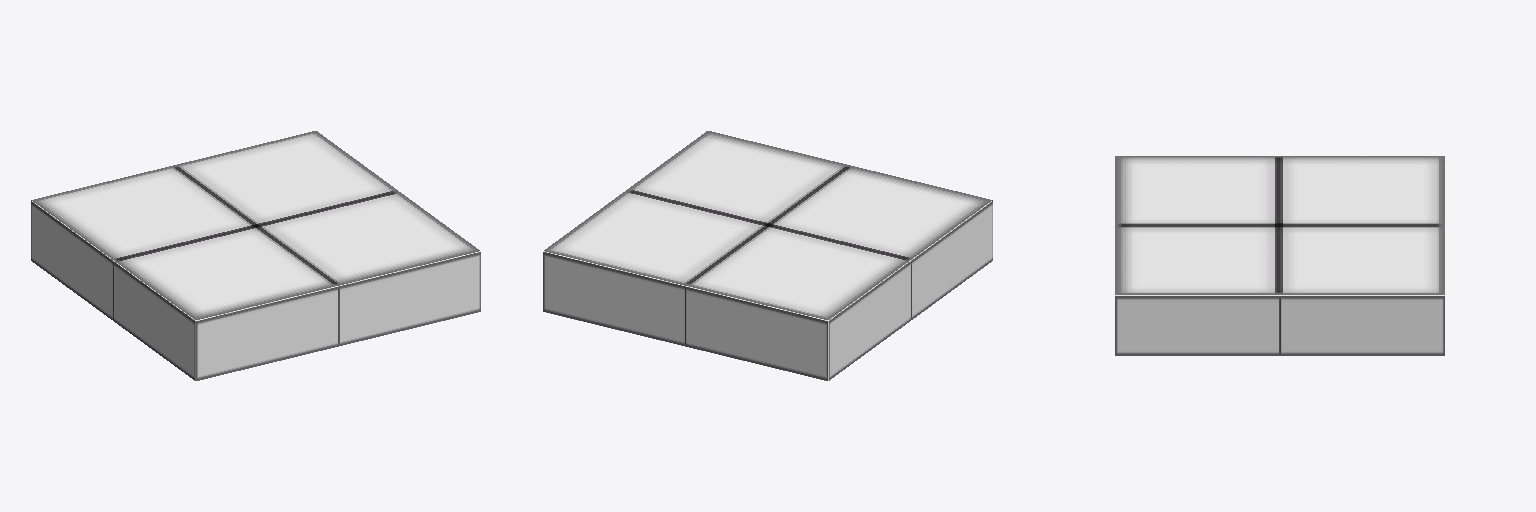
The picture shows the model from 3 angles: view 1: azimuth 30°, elevation 25°; view 2: azimuth 150°, elevation 25°; view 3: azimuth 270°, elevation 25°; orthographic projection.
Parts seen in each view (by area): view 1: Lightbridge2, Lightbridge3, Lightbridge7; view 2: Lightbridge2, Lightbridge5, Lightbridge7; view 3: Lightbridge2, Lightbridge4.
Boxes of the visible parts, x1=… form: Lightbridge2: x1=32, y1=131, x2=479, y2=319; Lightbridge3: x1=196, y1=252, x2=480, y2=380; Lightbridge7: x1=31, y1=201, x2=194, y2=379; Lightbridge2: x1=544, y1=131, x2=991, y2=319; Lightbridge5: x1=543, y1=252, x2=827, y2=380; Lightbridge7: x1=829, y1=201, x2=992, y2=379; Lightbridge2: x1=1115, y1=156, x2=1444, y2=294; Lightbridge4: x1=1115, y1=296, x2=1444, y2=355.
Size of the model in its own units: 10.04 by 2.04 by 10.04.
Materials: 3 (2 with a texture image).